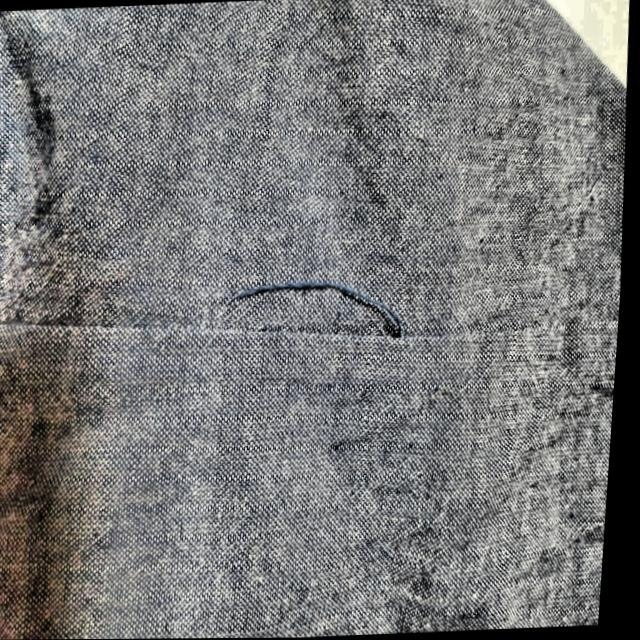Stitch: (207, 221, 429, 380)
